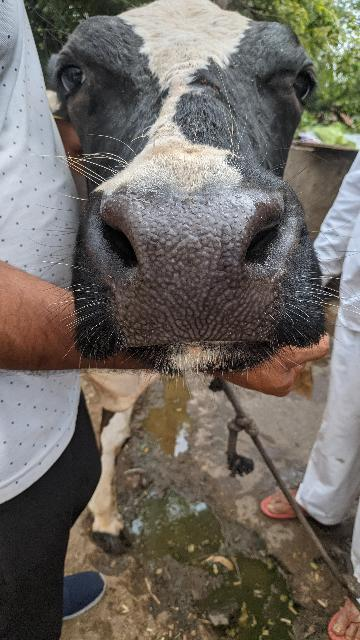Muzzle: (106, 194, 282, 340)
